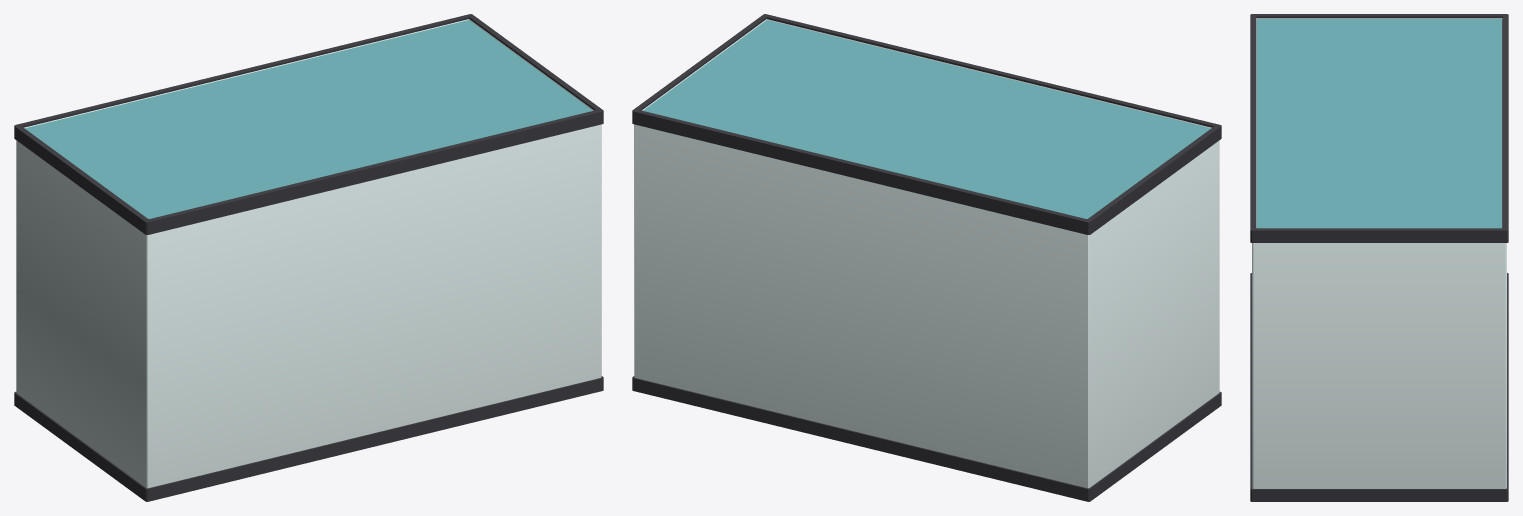
The model's file is container_tank_lod1.glb.
3 renders of one model, left to right at view 1: azimuth 30°, elevation 25°; view 2: azimuth 150°, elevation 25°; view 3: azimuth 270°, elevation 25°, orthographic. The views are drawn at different scales.
Parts seen in each view (by area): view 1: Glass, Liquid, Frame; view 2: Glass, Liquid, Frame; view 3: Glass, Liquid, Frame.
Part boxes in pixels (bbox=[...]): Glass: bbox=[16, 19, 601, 488]; Liquid: bbox=[25, 20, 592, 218]; Frame: bbox=[14, 14, 603, 501]; Glass: bbox=[634, 19, 1219, 488]; Liquid: bbox=[643, 20, 1210, 218]; Frame: bbox=[632, 14, 1221, 501]; Glass: bbox=[1252, 18, 1506, 488]; Liquid: bbox=[1257, 19, 1501, 228]; Frame: bbox=[1250, 14, 1508, 501].
Bounding box in the file's own units: 0.6035 × 0.352 × 0.3035.
